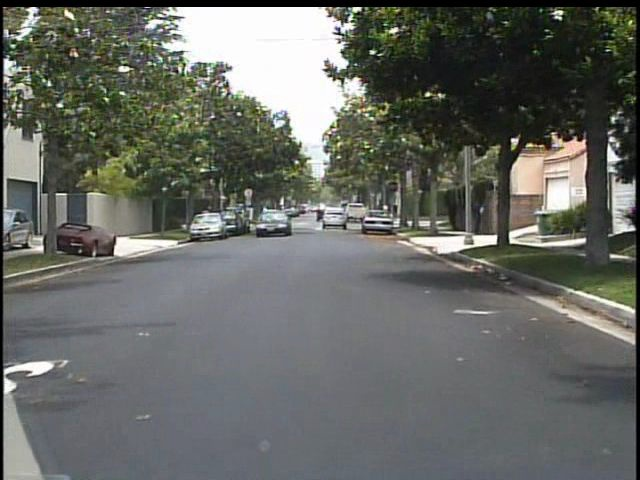person: (472, 193, 486, 237), (198, 204, 213, 232)
